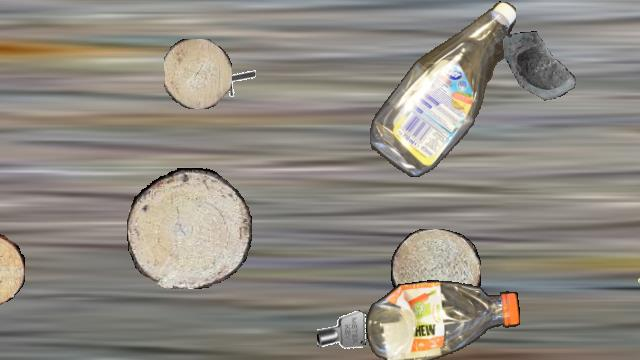glass: (503, 31, 585, 113)
metal: (317, 306, 367, 356), (218, 61, 256, 99), (622, 255, 640, 295)
plastic: (370, 1, 516, 177), (366, 279, 520, 359)
wood: (127, 168, 251, 288), (391, 229, 481, 313), (164, 39, 232, 109), (0, 233, 24, 305)
